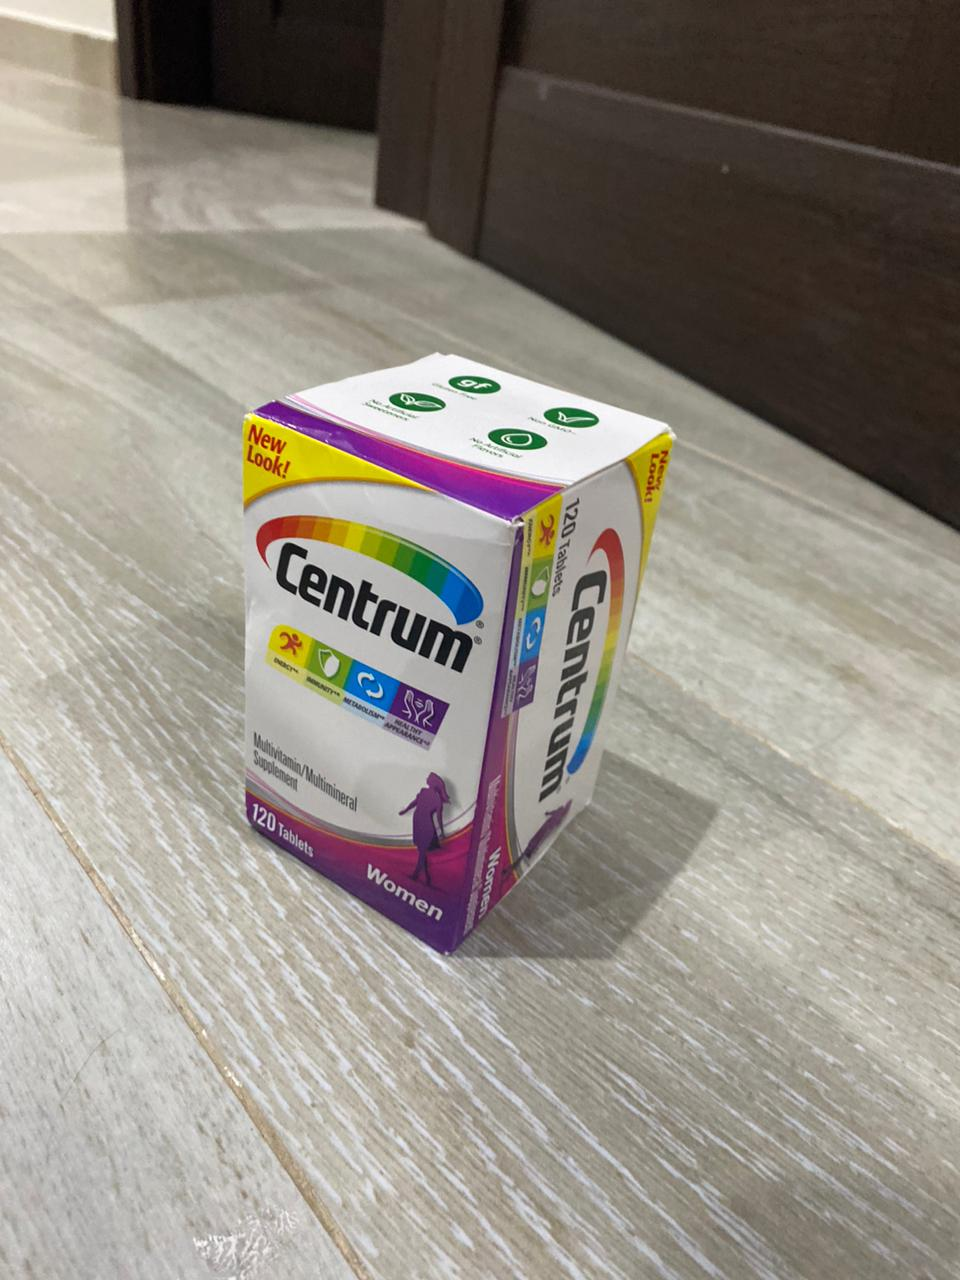Centrum: (232, 349, 683, 965)
